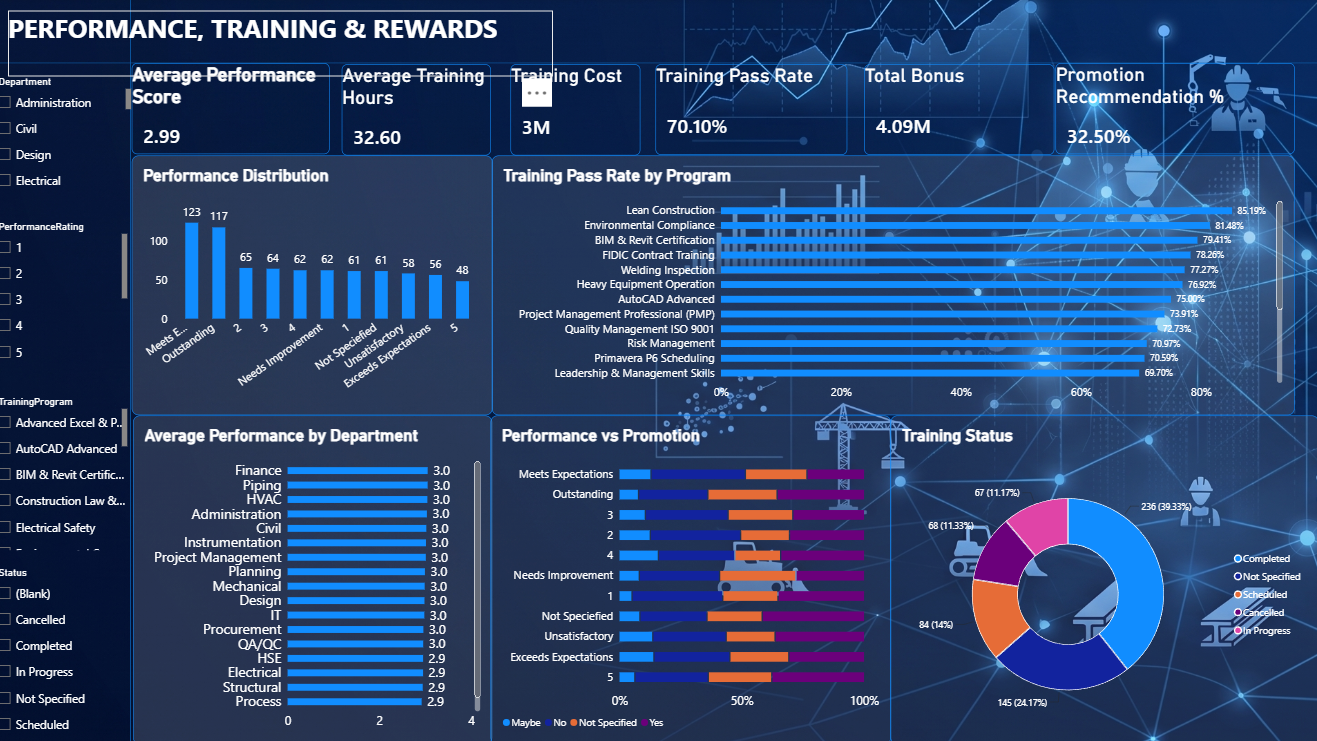

What the dashboard file says about the page in this screenshot:
{"tool":"powerbi","page":{"name":"PERFORMANCE, TRAINING & REWARDS","canvas":[1920,1080],"ordinal":5},"visuals":[{"type":"shape","box":[0,0,199.7,1080.6],"z":0},{"type":"shape","box":[0,0,1920.4,94.7],"z":1000},{"type":"columnChart","title":"Performance Distribution","fields":{"Category":["Performance_Reviews_cleaned.PerformanceRating"],"Y":["CountNonNull(Performance_Reviews_cleaned.ReviewedBy)"]},"box":[200,228,522,376],"z":2000},{"type":"cardVisual","title":"Average Performance Score","fields":{"Data":["Performance_Reviews_cleaned.Average Performance"]},"box":[200,94,286,132],"z":3000},{"type":"cardVisual","title":"Average Training Hours","fields":{"Data":["Employee_Master_cleaned.Average Training Hours"]},"box":[504,96,216,132],"z":4000},{"type":"cardVisual","title":"Training Cost","fields":{"Data":["Employee_Master_cleaned.Training Cost"]},"box":[750,96,188,132],"z":5000},{"type":"cardVisual","title":"Promotion Recommendation %","fields":{"Data":["Training_Development_cleaned.Promotion Recommendation %"]},"box":[1538,94,346,132],"z":6000},{"type":"textbox","box":[20.9,19,790.2,95],"z":7000},{"type":"barChart","title":"Average Performance by Department","fields":{"Category":["Employee_Master_cleaned.Department"],"Y":["Avg(Performance_Reviews_cleaned.OverallScore)"]},"box":[202,604,520,476],"z":8000},{"type":"barChart","title":"Training Pass Rate by Program","fields":{"Category":["Training_Development_cleaned.TrainingProgram"],"Y":["Training_Development_cleaned.Training Pass Rate"]},"box":[722,228,1162,376],"z":9000},{"type":"cardVisual","title":"Training Pass Rate","fields":{"Data":["Training_Development_cleaned.Training Pass Rate"]},"box":[960,96,277.3,131.1],"z":10000},{"type":"cardVisual","title":"Total Bonus","fields":{"Data":["Training_Development_cleaned.Total Bonus"]},"box":[1262,96,275.4,131.1],"z":11000},{"type":"hundredPercentStackedBarChart","title":"Performance vs Promotion","fields":{"Category":["Performance_Reviews_cleaned.PerformanceRating"],"Series":["Performance_Reviews_cleaned.PromotionRecommended"],"Y":["CountNonNull(Attendance_Log_cleaned.EmployeeID)"]},"box":[720,604,580,476],"z":12000},{"type":"donutChart","title":"Training Status","fields":{"Category":["Training_Development_cleaned.Status"],"Y":["CountNonNull(Training_Development_cleaned.EmployeeID)"]},"box":[1300,604,620,476],"z":13000},{"type":"slicer","fields":{"Values":["Employee_Master_cleaned.Department"]},"box":[0,112,200,164],"z":14000},{"type":"slicer","fields":{"Values":["Performance_Reviews_cleaned.PerformanceRating"]},"box":[0,322,194,218],"z":15000},{"type":"slicer","fields":{"Values":["Training_Development_cleaned.TrainingProgram"]},"box":[0,576,194,224],"z":15001},{"type":"slicer","fields":{"Values":["Training_Development_cleaned.Status"]},"box":[0,824,202,256],"z":15002}]}

Visuals, with their boxes in screenshot pixels (x1, y1, x2, y2), scaled from the page's 1920x1080 canvas onto the 1317x741 screenshot:
shape: <region>0, 0, 137, 740</region>
shape: <region>0, 0, 1316, 65</region>
"Performance Distribution" columnChart: <region>137, 156, 495, 414</region>
"Average Performance Score" cardVisual: <region>137, 64, 333, 155</region>
"Average Training Hours" cardVisual: <region>346, 66, 494, 156</region>
"Training Cost" cardVisual: <region>514, 66, 643, 156</region>
"Promotion Recommendation %" cardVisual: <region>1055, 64, 1292, 155</region>
textbox: <region>14, 13, 556, 78</region>
"Average Performance by Department" barChart: <region>139, 414, 495, 740</region>
"Training Pass Rate by Program" barChart: <region>495, 156, 1292, 414</region>
"Training Pass Rate" cardVisual: <region>658, 66, 849, 156</region>
"Total Bonus" cardVisual: <region>866, 66, 1055, 156</region>
"Performance vs Promotion" hundredPercentStackedBarChart: <region>494, 414, 892, 740</region>
"Training Status" donutChart: <region>892, 414, 1316, 740</region>
slicer - Employee_Master_cleaned.Department: <region>0, 77, 137, 189</region>
slicer - Performance_Reviews_cleaned.PerformanceRating: <region>0, 221, 133, 370</region>
slicer - Training_Development_cleaned.TrainingProgram: <region>0, 395, 133, 549</region>
slicer - Training_Development_cleaned.Status: <region>0, 565, 139, 740</region>
